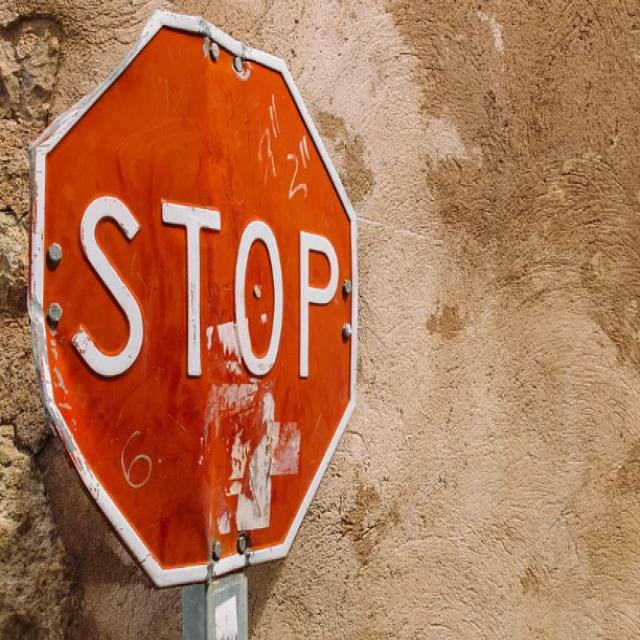stop-sign: (68, 123, 477, 522)
